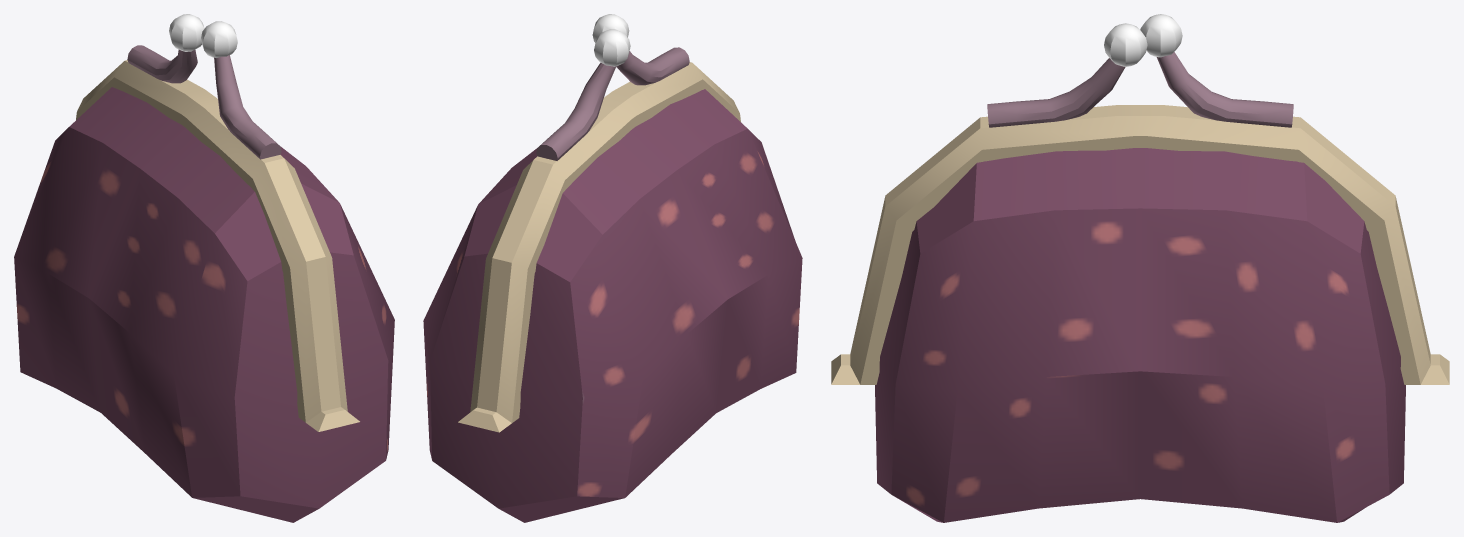
File: Purse.fbx
3 views of the same model, side by side, from view 1: azimuth 30°, elevation 25°; view 2: azimuth 150°, elevation 25°; view 3: azimuth 270°, elevation 25° (orthographic). The views are drawn at different scales.
Visible parts, largest first — view 1: Cube; view 2: Cube; view 3: Cube.
Boxes of the visible parts, x1,y1,x2,y2 form: Cube: (14, 14, 394, 522); Cube: (423, 14, 802, 522); Cube: (831, 14, 1449, 522).
Bounding box in the file's own units: 1.25 × 2.26 × 2.53.
